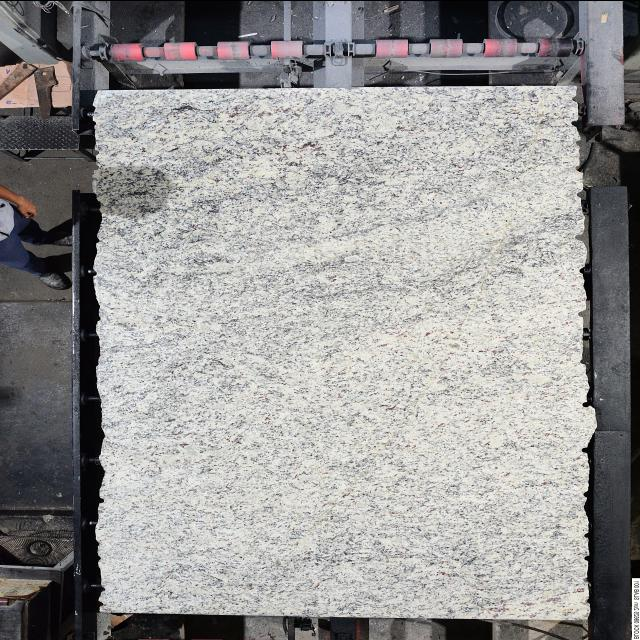chapa: (94, 85, 595, 619)
